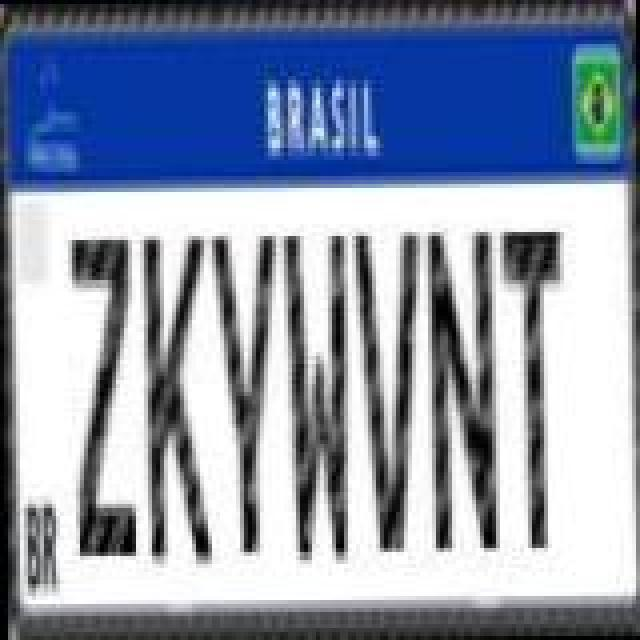K: (146, 234, 214, 570)
N: (428, 224, 500, 556)
T: (500, 222, 564, 554)
V: (358, 224, 426, 556)
W: (282, 232, 350, 568)
Y: (212, 230, 284, 558)
Z: (72, 230, 136, 562)
